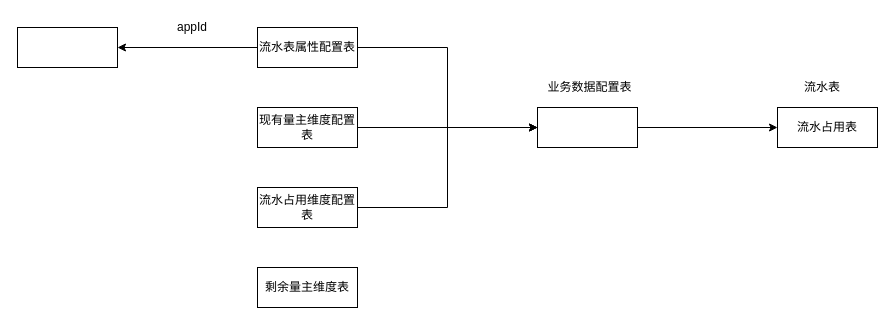
The diagram is 895 pixels wide and 325 high, and some of its shapes have lost their labels. The shapes that lost their labels are listed below. From the top down, each one's centre as x and y in pixels, then its label:
At point 67,47: "应用配置表".
At point 587,127: "流水占用业务表".
